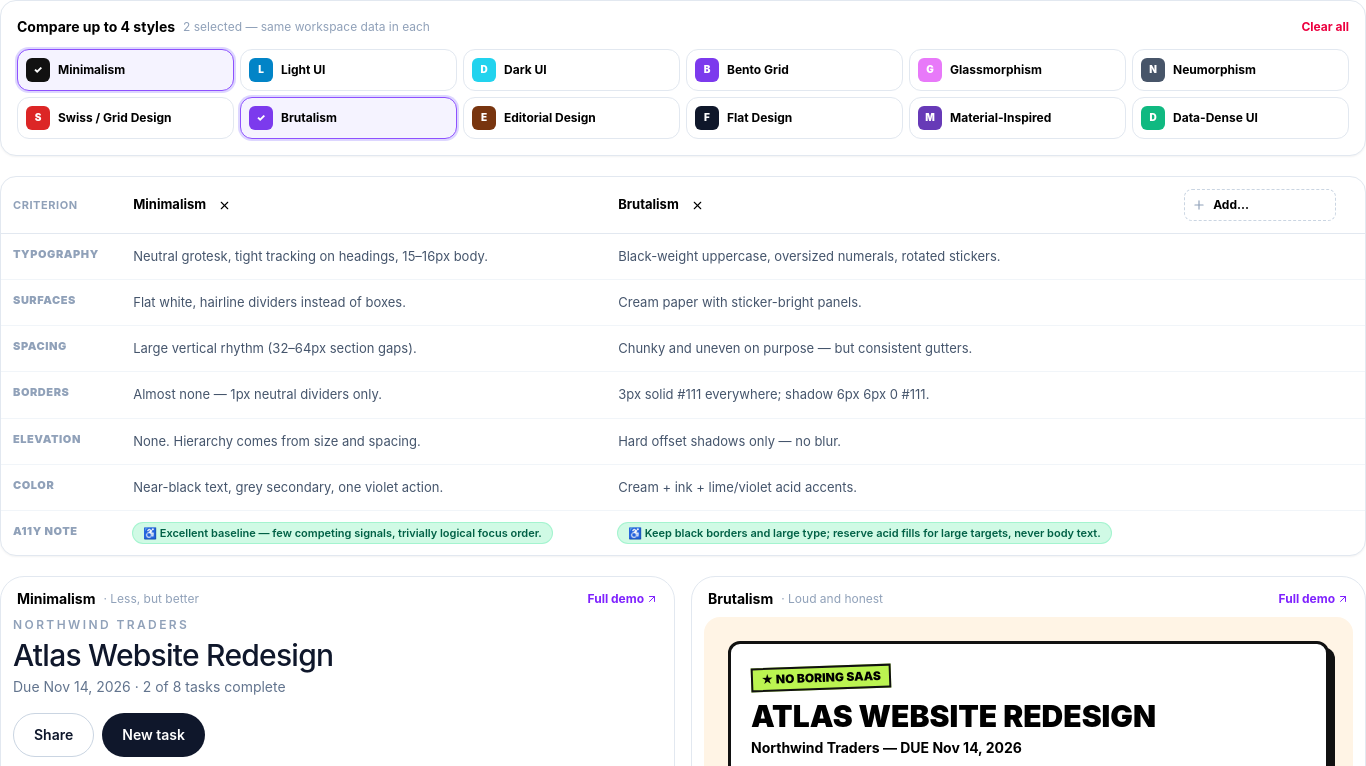
Test: comparison › adds a replacement style
Click the button named "Remove Brutalism from comparison": (697, 205) [687,194,708,216]
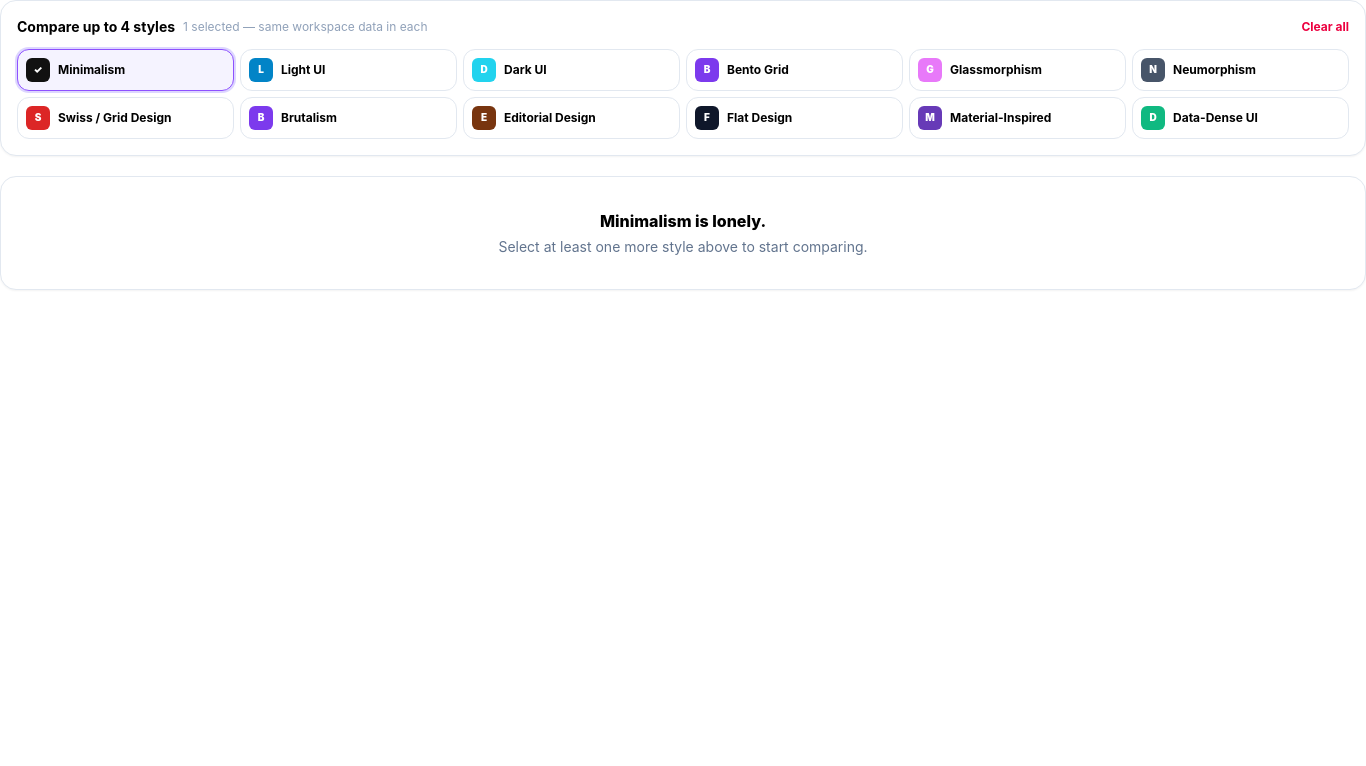
Click the button "G Glassmorphism": (1018, 70) [909,49,1126,91]
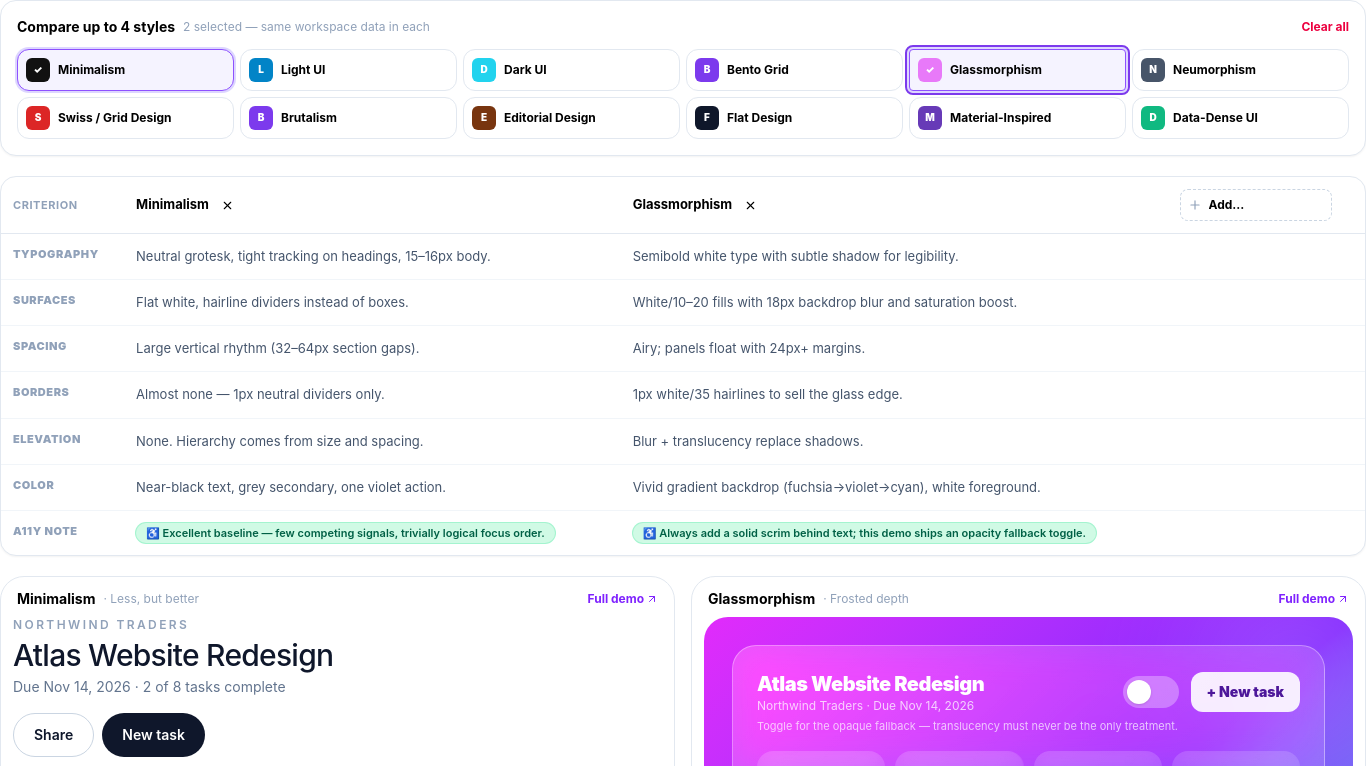
Expected: the text "Glassmorphism" is shown, [633,194,761,216]
